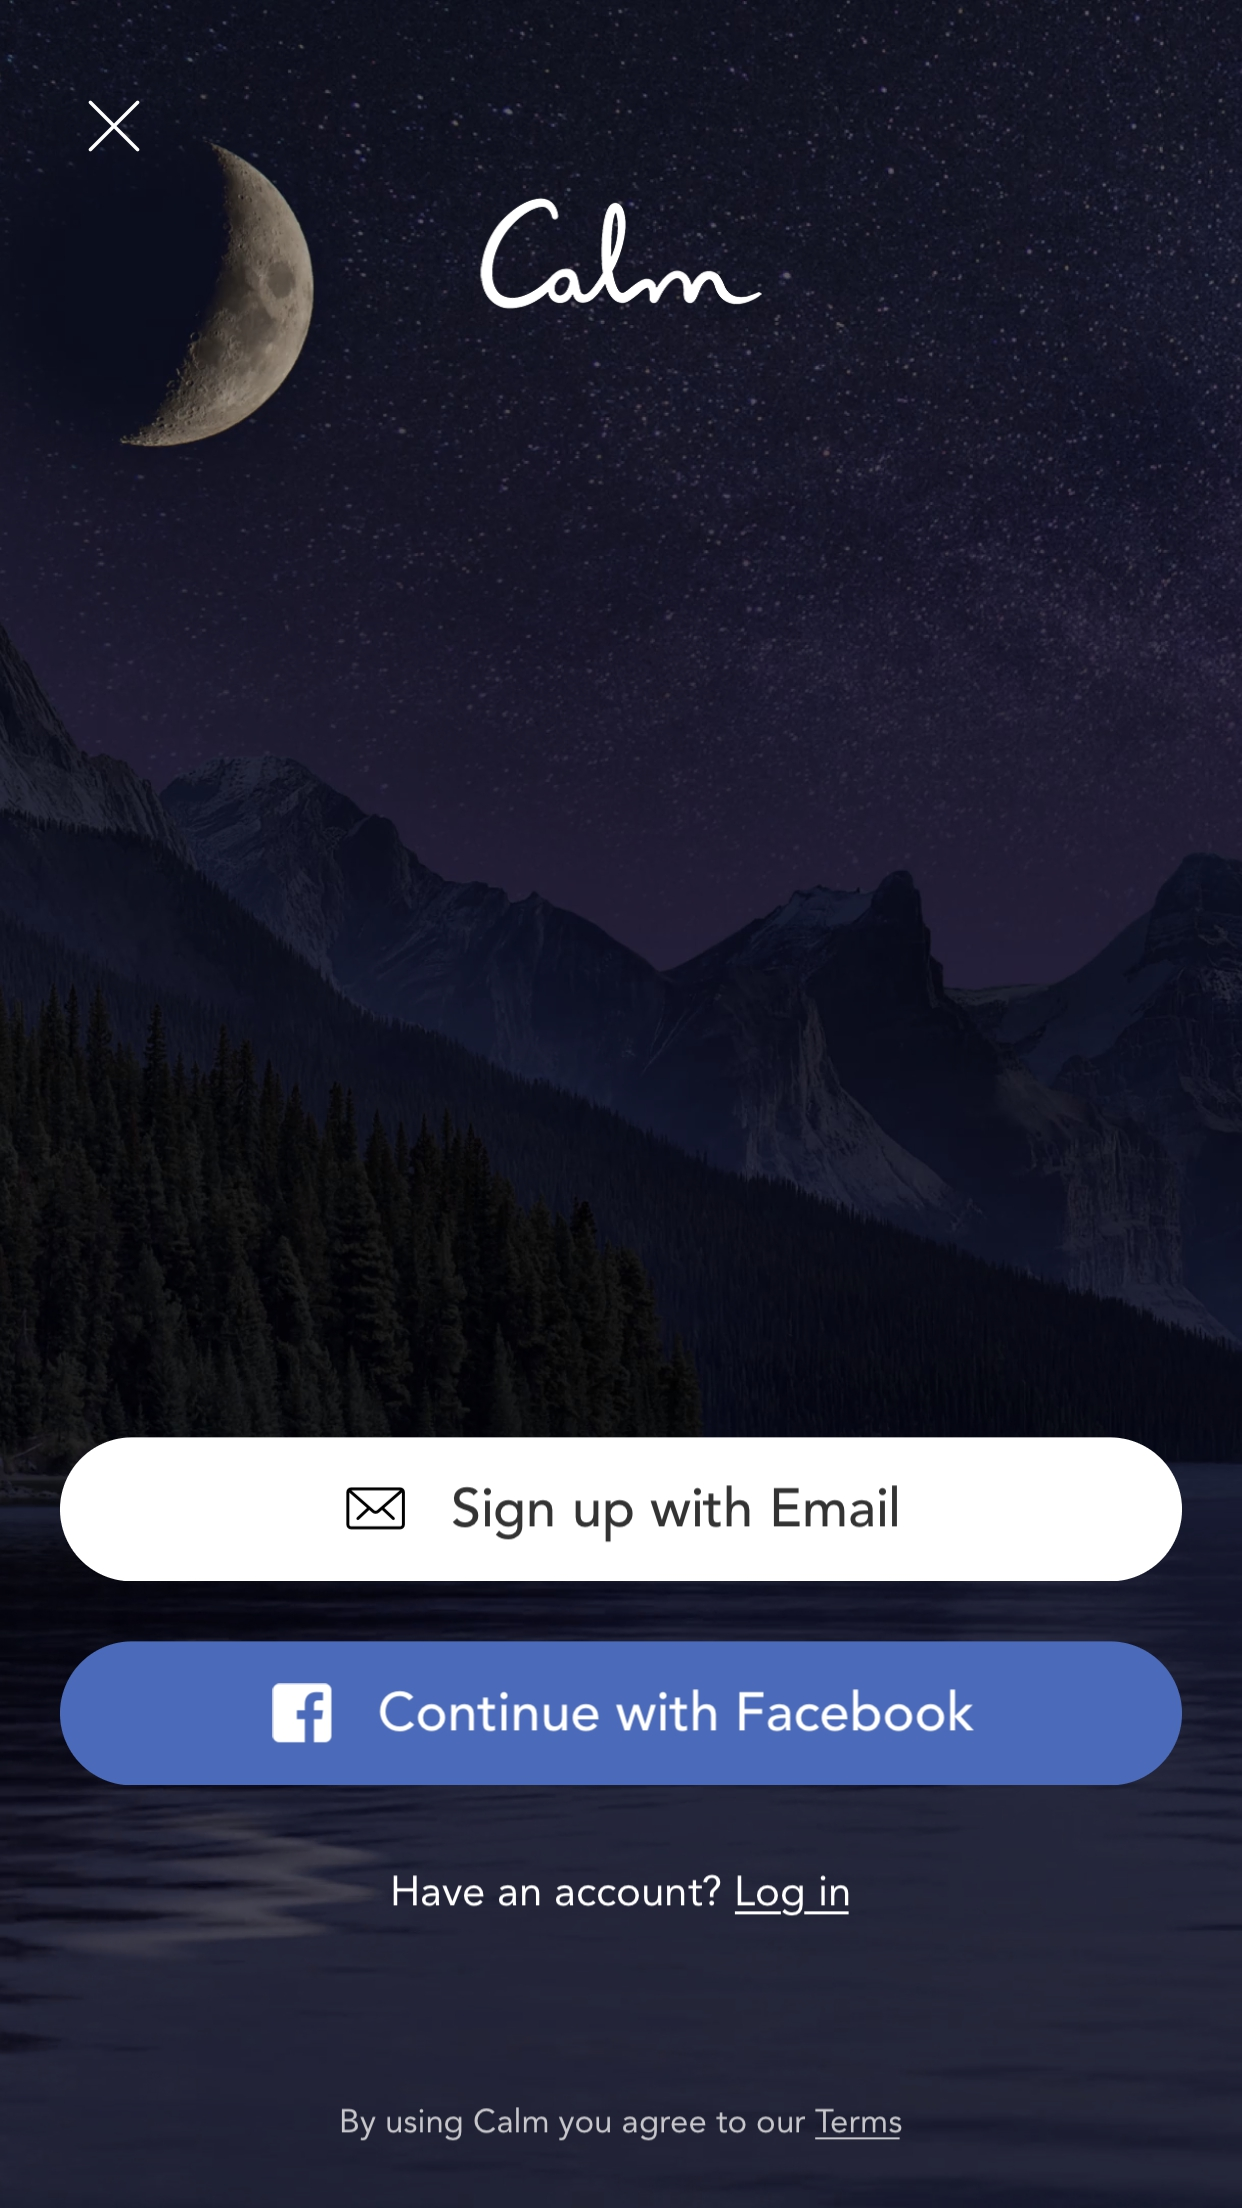BackgroundImage: (2, 2, 1242, 2208)
Icon: (89, 100, 143, 153)
Image: (481, 197, 764, 311)
Text: (343, 2106, 902, 2141), (391, 1874, 851, 1917)
TextButton: (61, 1639, 1183, 1786), (61, 1438, 1183, 1582)
